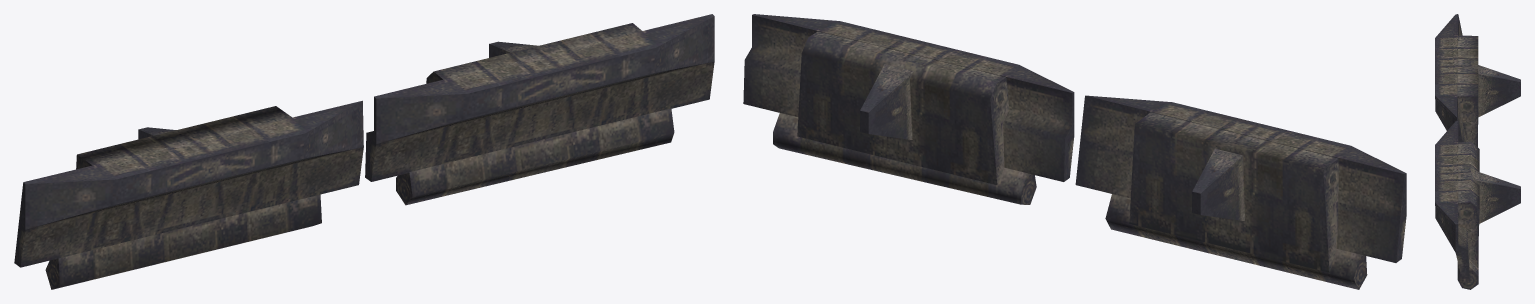
3 views of the same model, side by side, from view 1: azimuth 30°, elevation 25°; view 2: azimuth 150°, elevation 25°; view 3: azimuth 270°, elevation 25° (orthographic). The views are drawn at different scales.
Visible parts, largest first — view 1: set_0_group_0; view 2: set_0_group_0; view 3: set_0_group_0.
Part boxes in pixels (left/top/right/bottom): set_0_group_0: left=14, top=14, right=714, bottom=289; set_0_group_0: left=743, top=14, right=1406, bottom=289; set_0_group_0: left=1435, top=14, right=1520, bottom=289.
Bounding box in the file's own units: 1.02 × 0.1765 × 0.1757.
Materials: 1 (1 with a texture image).
